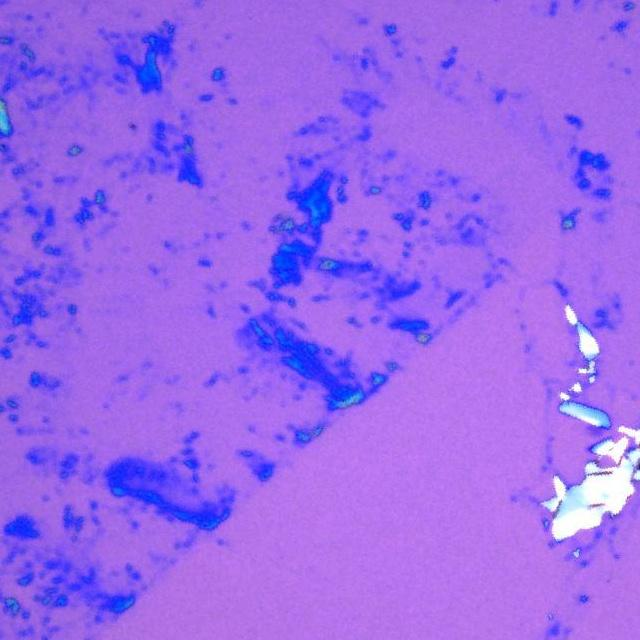monolayer-eWW4: (588, 424, 604, 438)
